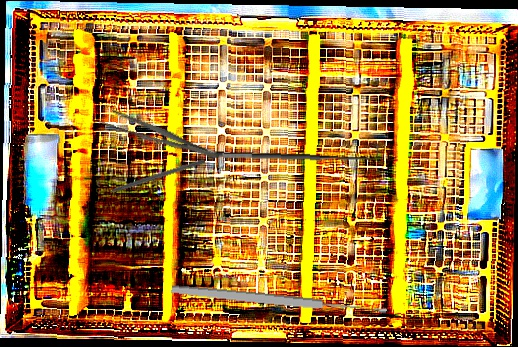Dressing Forceps: (96, 104, 223, 167)
Hook Surgical: (211, 138, 380, 166), (95, 157, 206, 199)
Surgical Spoon: (170, 282, 388, 319)
